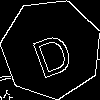D: (26, 24, 77, 79)
